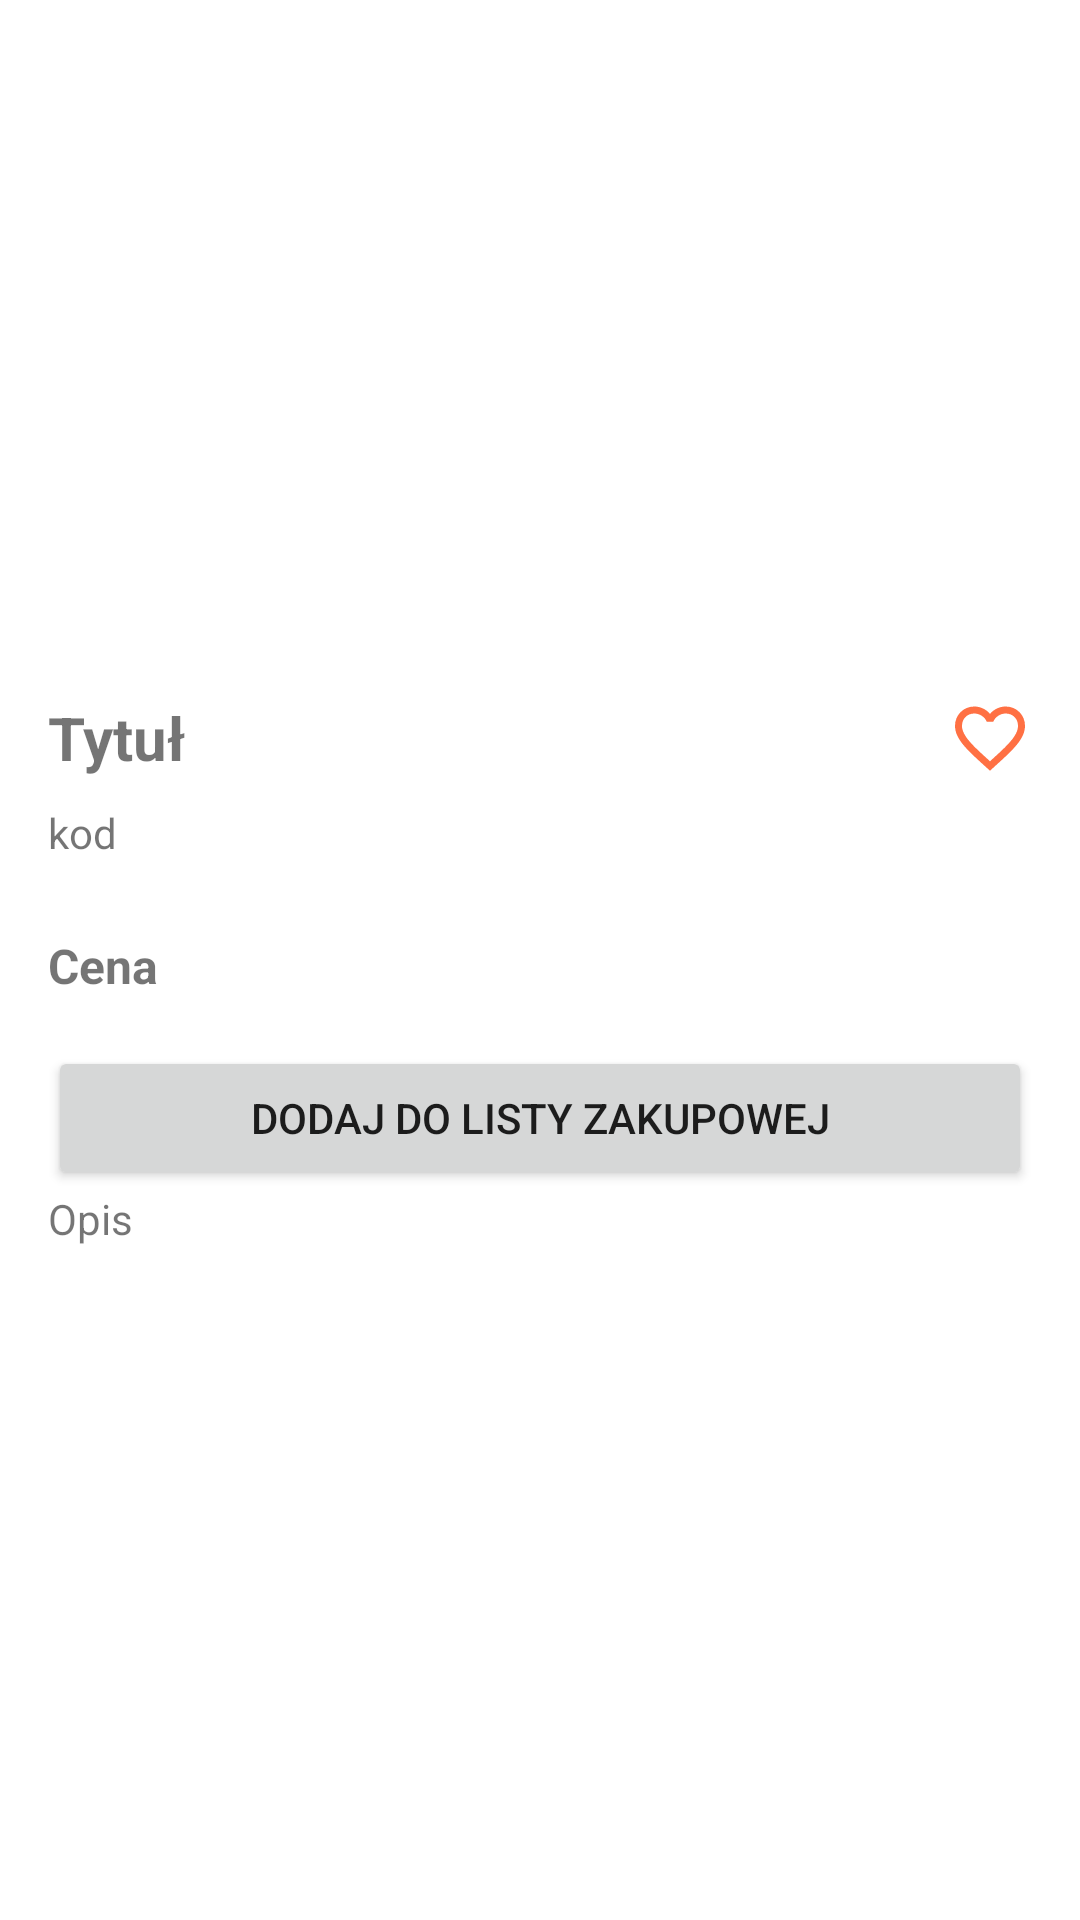

Named icons in this screenshot (1080px×1920px) and their bounding boxes, detection(x1, y1, x2, y2):
heart: detection(955, 706, 1025, 771)
